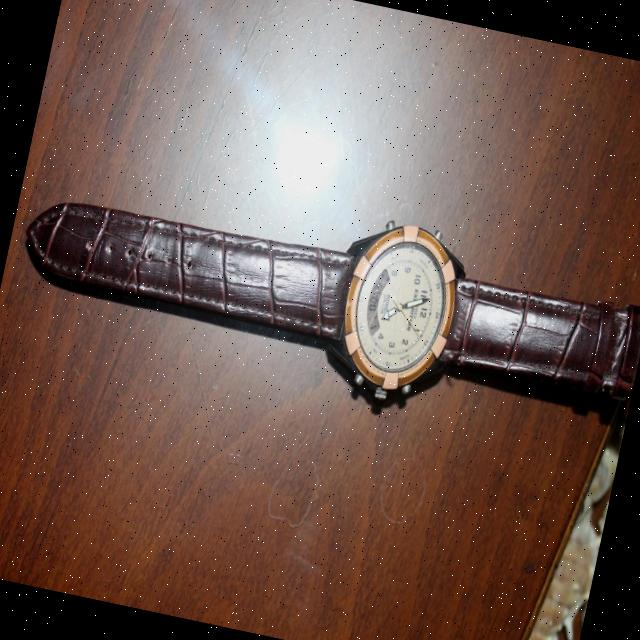Wrist watch: (8, 135, 640, 461)
